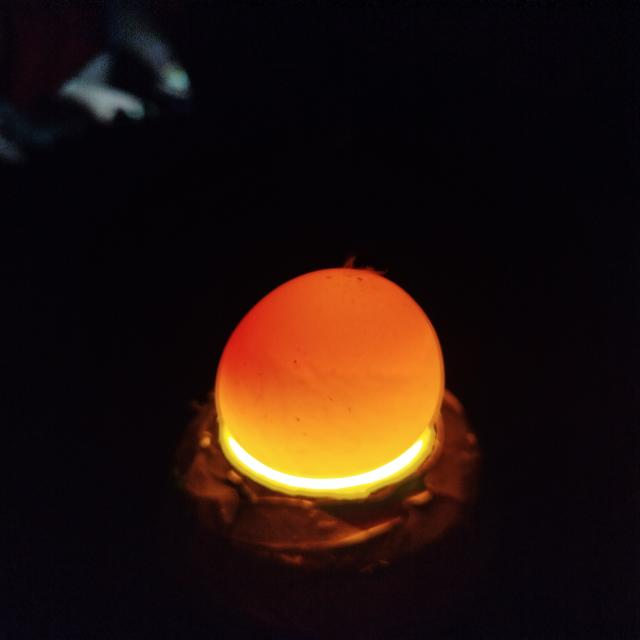Gema Quebrada: (219, 281, 336, 415)
